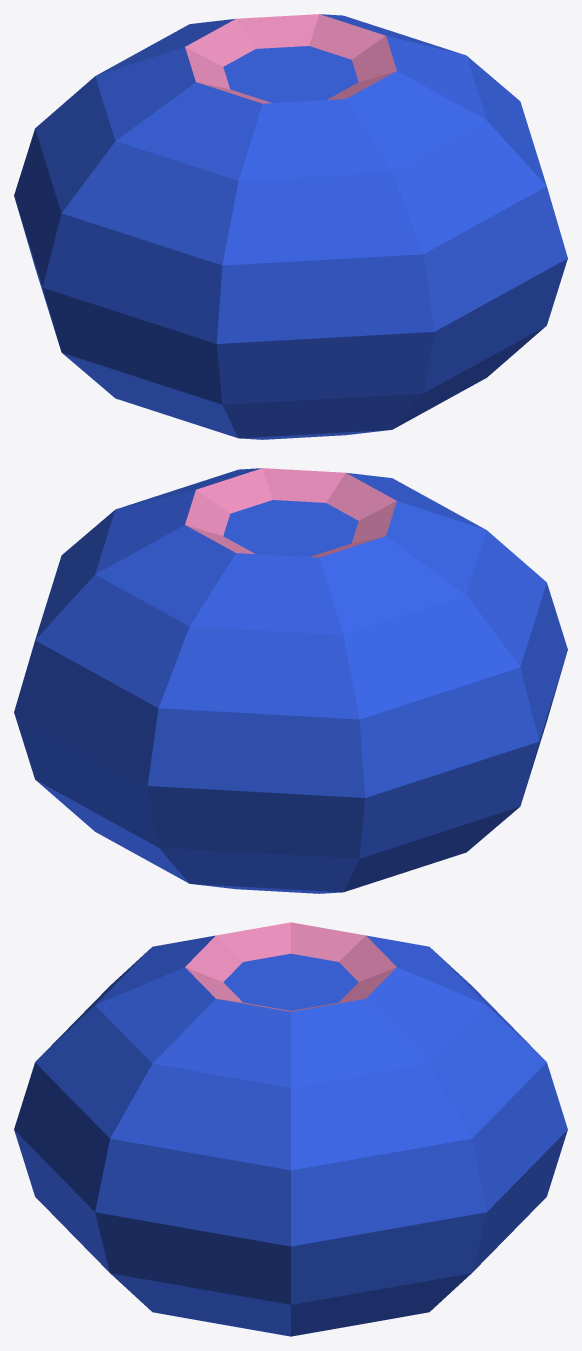
The model's file is blueberry.fbx.
3 views of the same model, one above another, from view 1: azimuth 30°, elevation 25°; view 2: azimuth 150°, elevation 25°; view 3: azimuth 270°, elevation 25° (orthographic). The views are drawn at different scales.
Visible parts, largest first — view 1: Sphere; view 2: Sphere; view 3: Sphere.
Boxes of the visible parts, <box> form: Sphere: <box>14,14,567,439</box>; Sphere: <box>14,468,567,893</box>; Sphere: <box>14,922,567,1336</box>.
Bounding box in the file's own units: 3.75 × 2.53 × 3.75.
